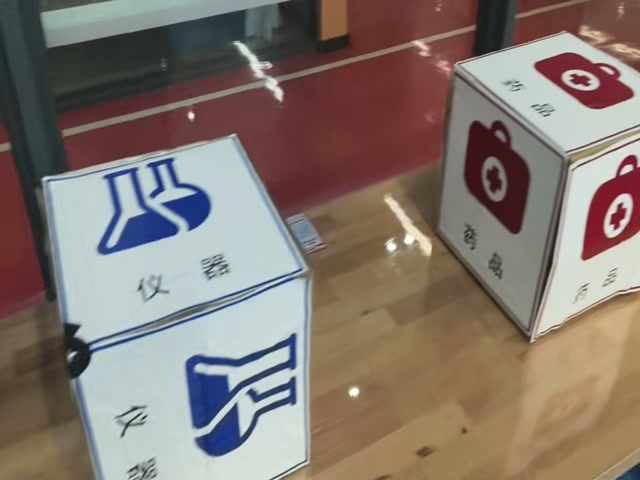Cube_ins: (41, 136, 313, 345)
Cube_medicine: (448, 34, 640, 160)
